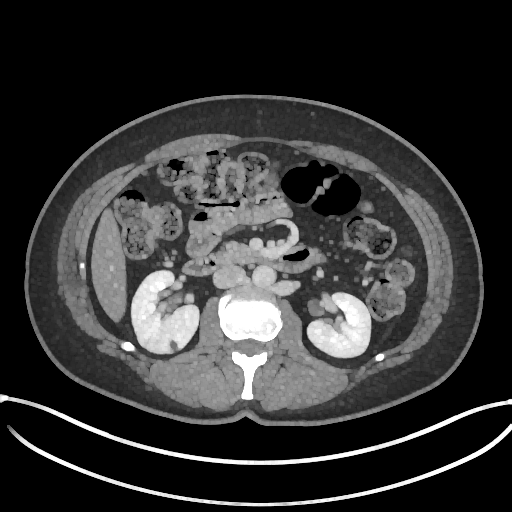Lesion: (165, 339, 182, 356)
